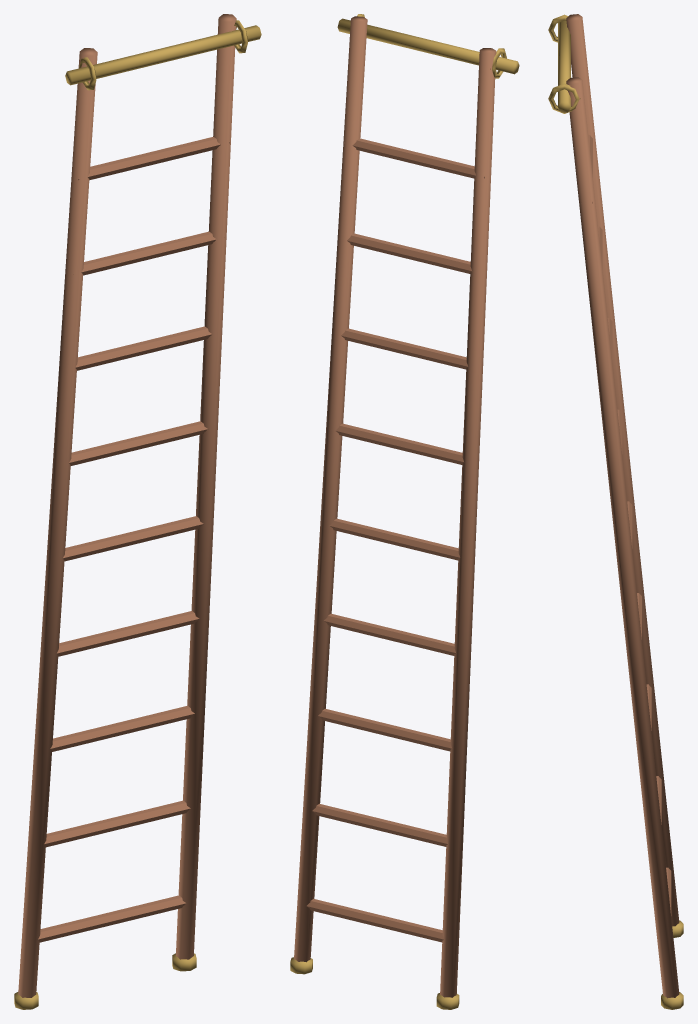
File: library_ladder.glb
3 renders of one model, left to right at view 1: azimuth 30°, elevation 25°; view 2: azimuth 150°, elevation 25°; view 3: azimuth 270°, elevation 25°, orthographic. The views are drawn at different scales.
Parts seen in each view (by area): view 1: library_ladder; view 2: library_ladder; view 3: library_ladder.
Part boxes in pixels (x1,y1,x2,y2): library_ladder: [14, 14, 261, 1009]; library_ladder: [290, 14, 519, 1009]; library_ladder: [548, 14, 683, 1009].
Size of what is drawn, in the model's own units: 0.6 by 3 by 0.4.
